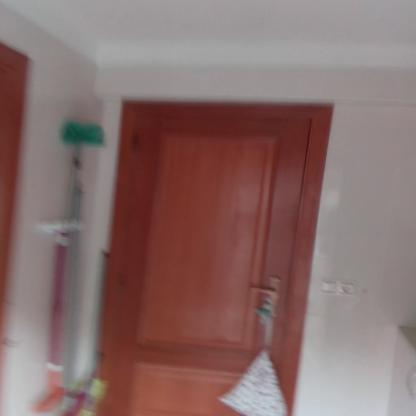door: (134, 112, 289, 415)
hinged: (129, 132, 142, 154), (118, 268, 128, 296)
lever: (247, 285, 280, 297)
